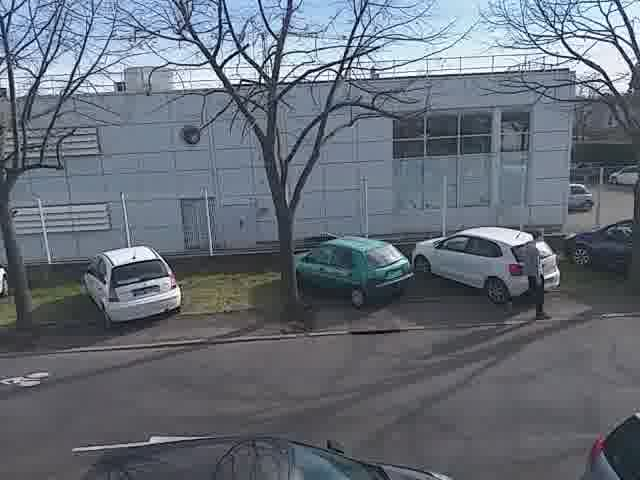persona: (507, 230, 558, 320)
